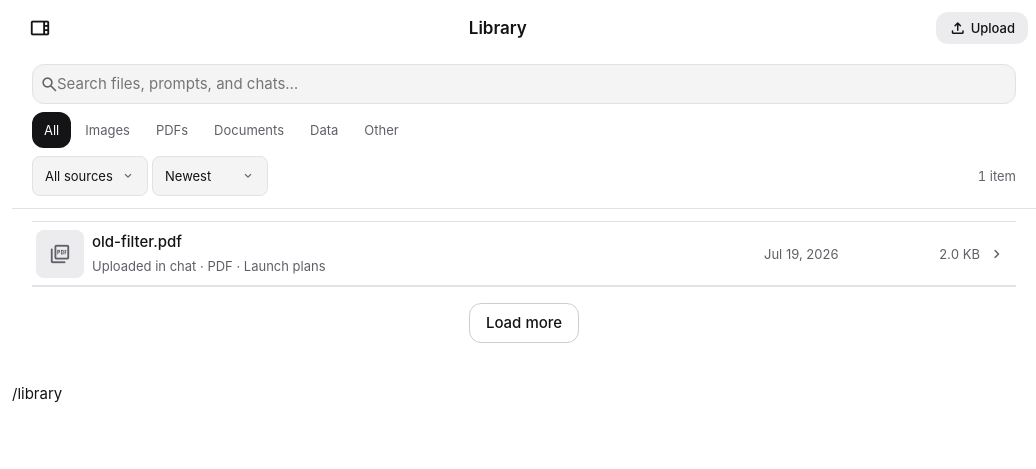
Test: LibraryView › rejects an old page after switching away and back to the same filter
Check: the text "old-filter.pdf" is shown, box [92,232,182,250]
Click the button "Load more" at x=524, y=323, box [469,303,579,343]
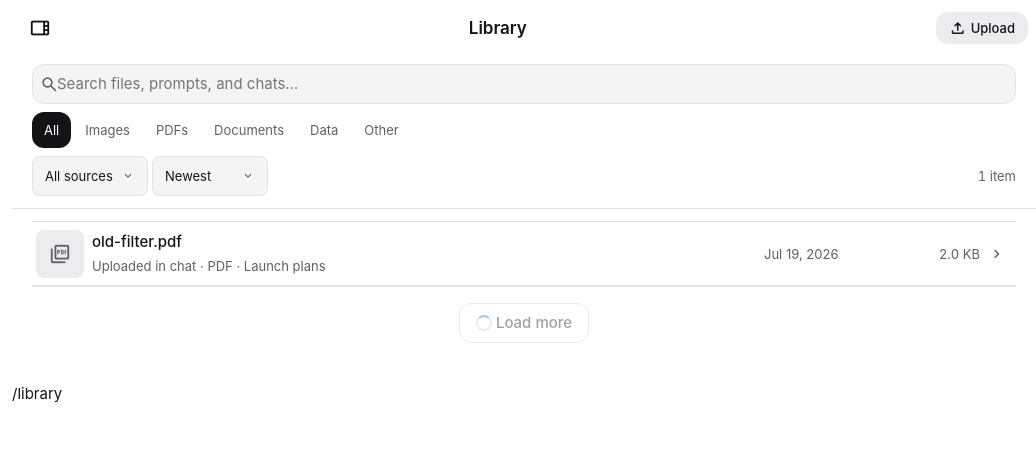
Click the tab "Images" at x=108, y=130, box [73,112,142,148]
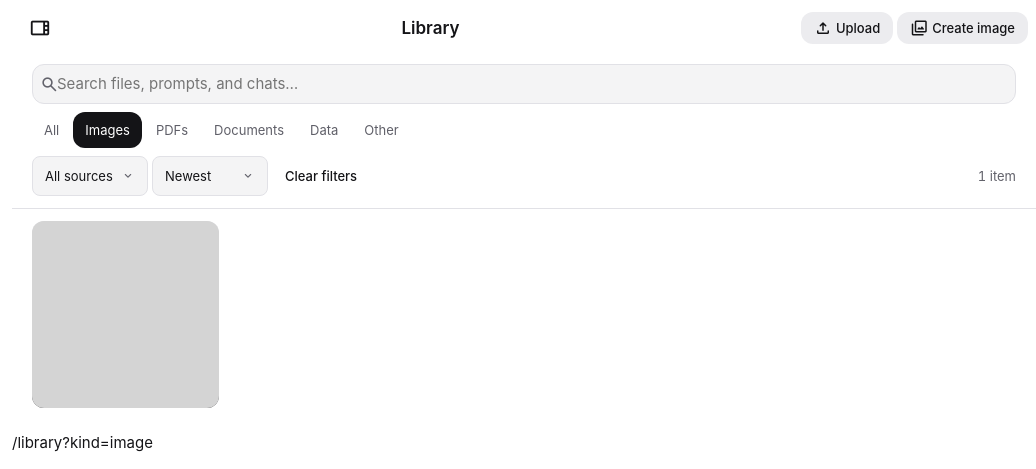
Click the tab "All" at x=52, y=130, box [32,112,71,148]
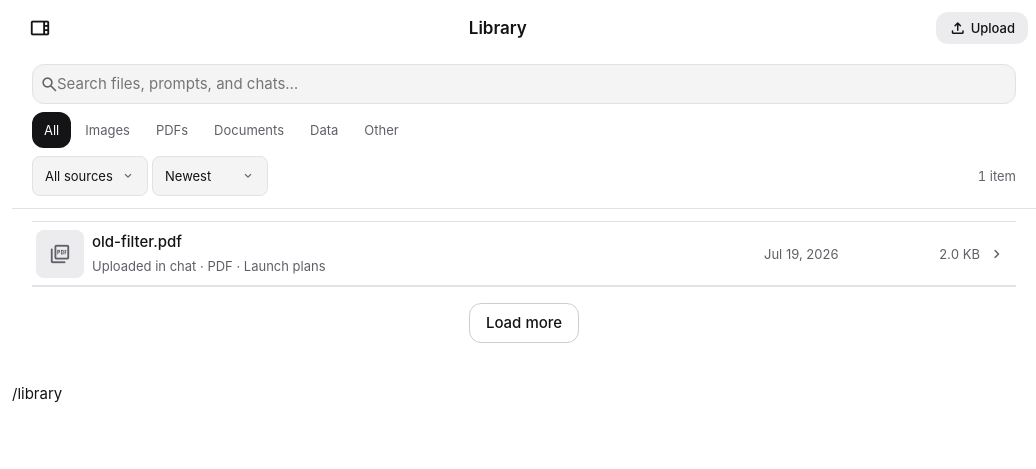
Check: the text "old-filter.pdf" is shown, box [92,232,182,250]
